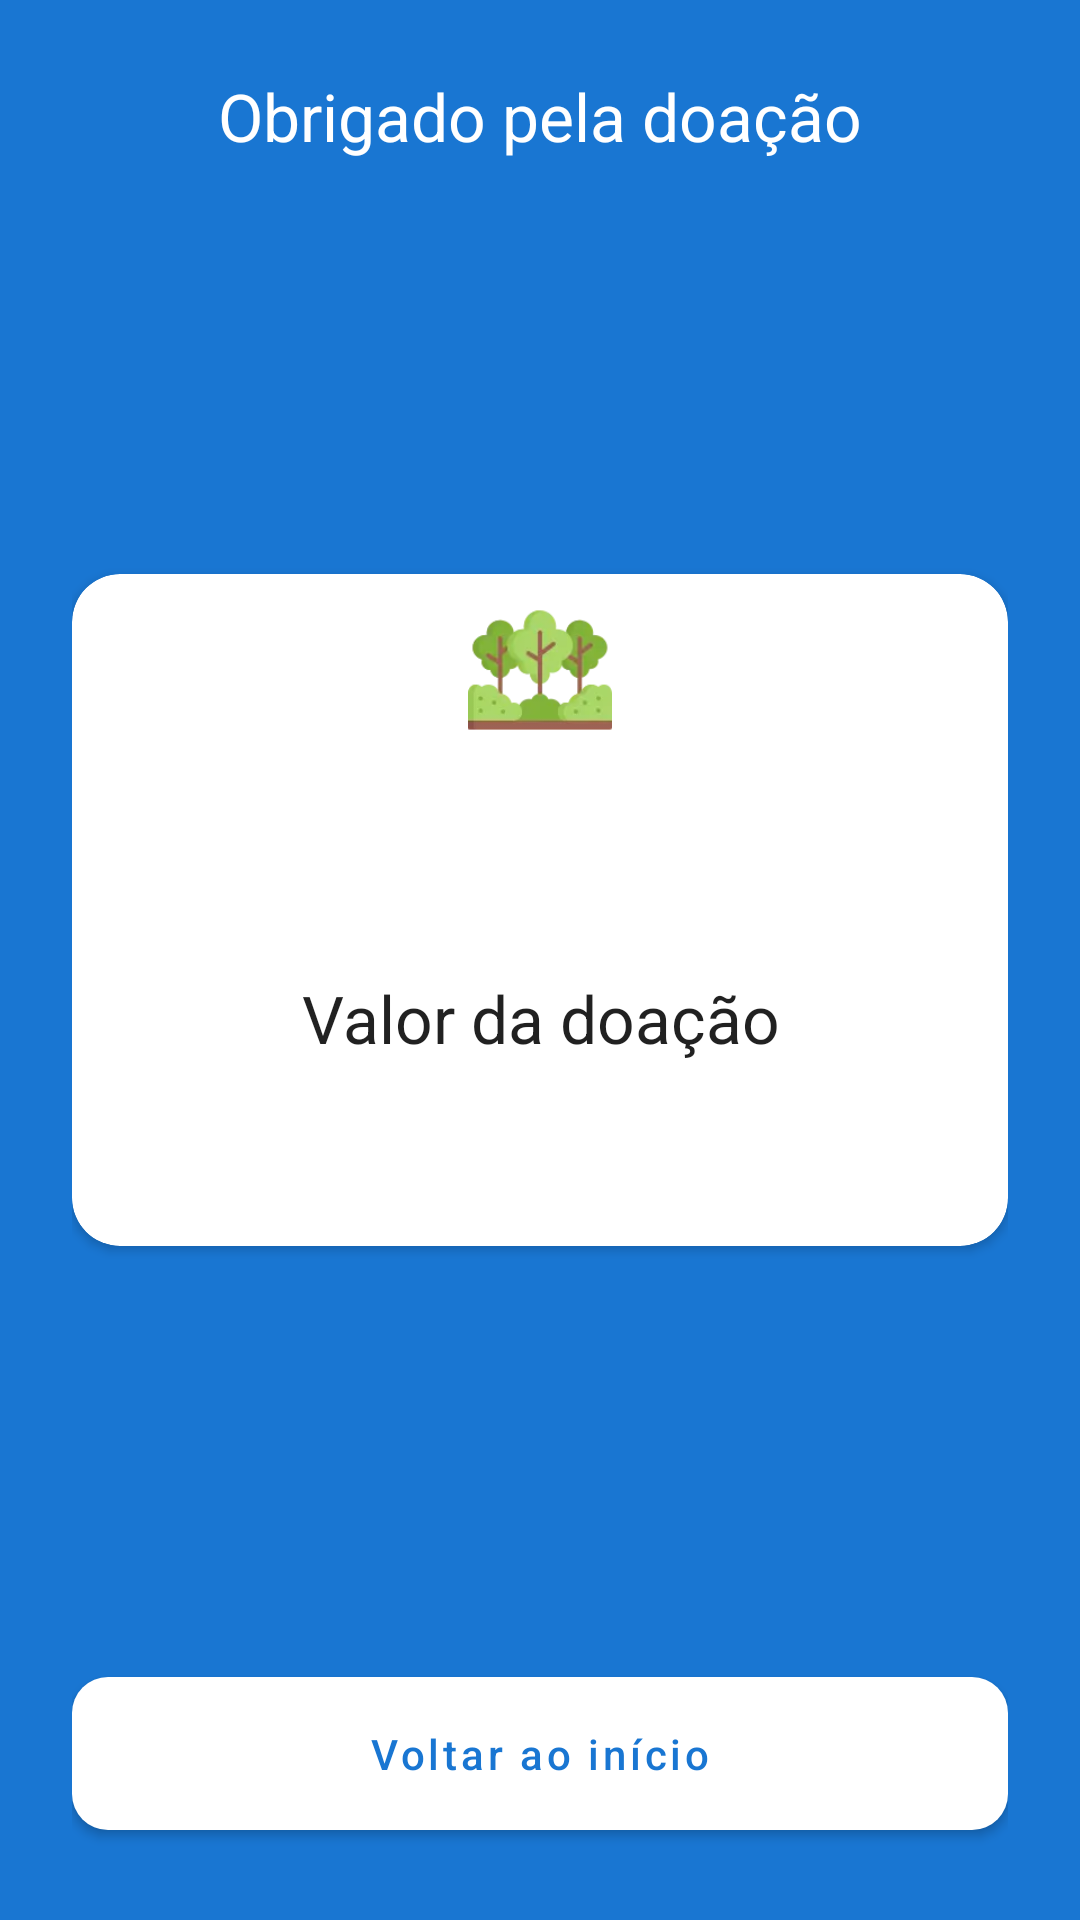

Icons on this 1080×1920 Android screen, each with the point to tap as point (x, y):
forest: point (540, 670)
